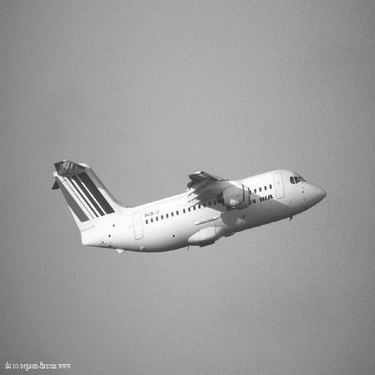airplane: (38, 154, 331, 255)
